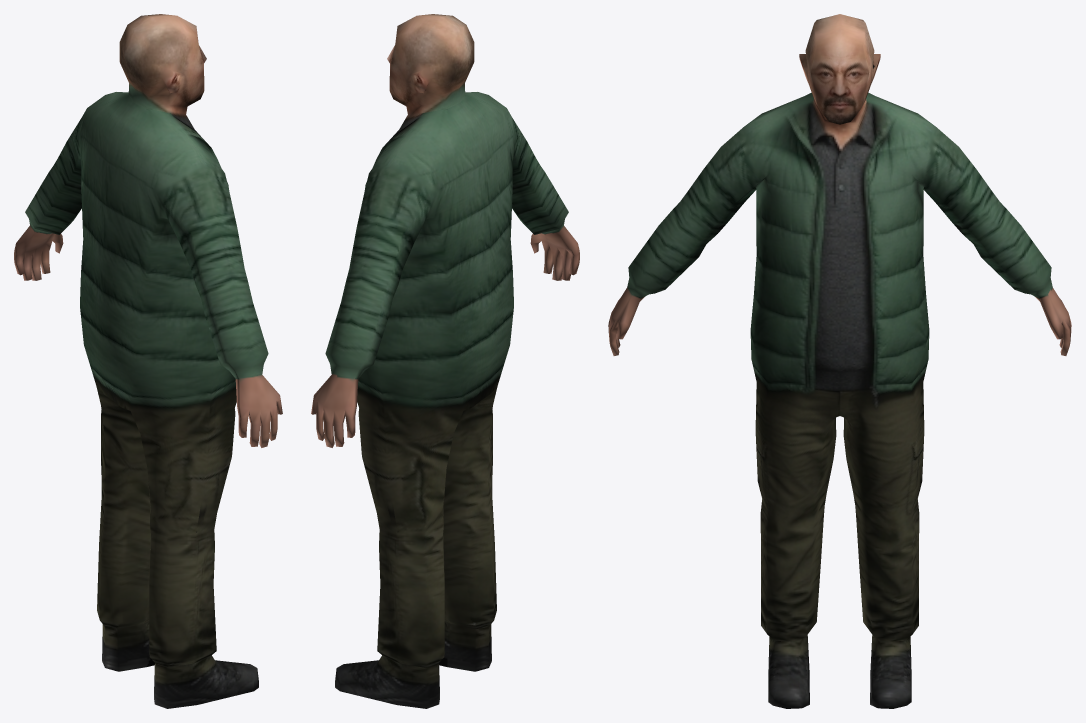
Rendered from Character_Male_44.fbx.
3 views of the same model, side by side, from view 1: azimuth 30°, elevation 25°; view 2: azimuth 150°, elevation 25°; view 3: azimuth 270°, elevation 25° (orthographic).
Parts seen in each view (by area): view 1: Character_Male_44; view 2: Character_Male_44; view 3: Character_Male_44.
Boxes of the visible parts, box(x1,y1,x2,y2) form: Character_Male_44: box(14, 14, 282, 708); Character_Male_44: box(311, 14, 579, 708); Character_Male_44: box(608, 14, 1071, 708).
Size of the model in its own units: 0.3341 by 1.64 by 1.05.
